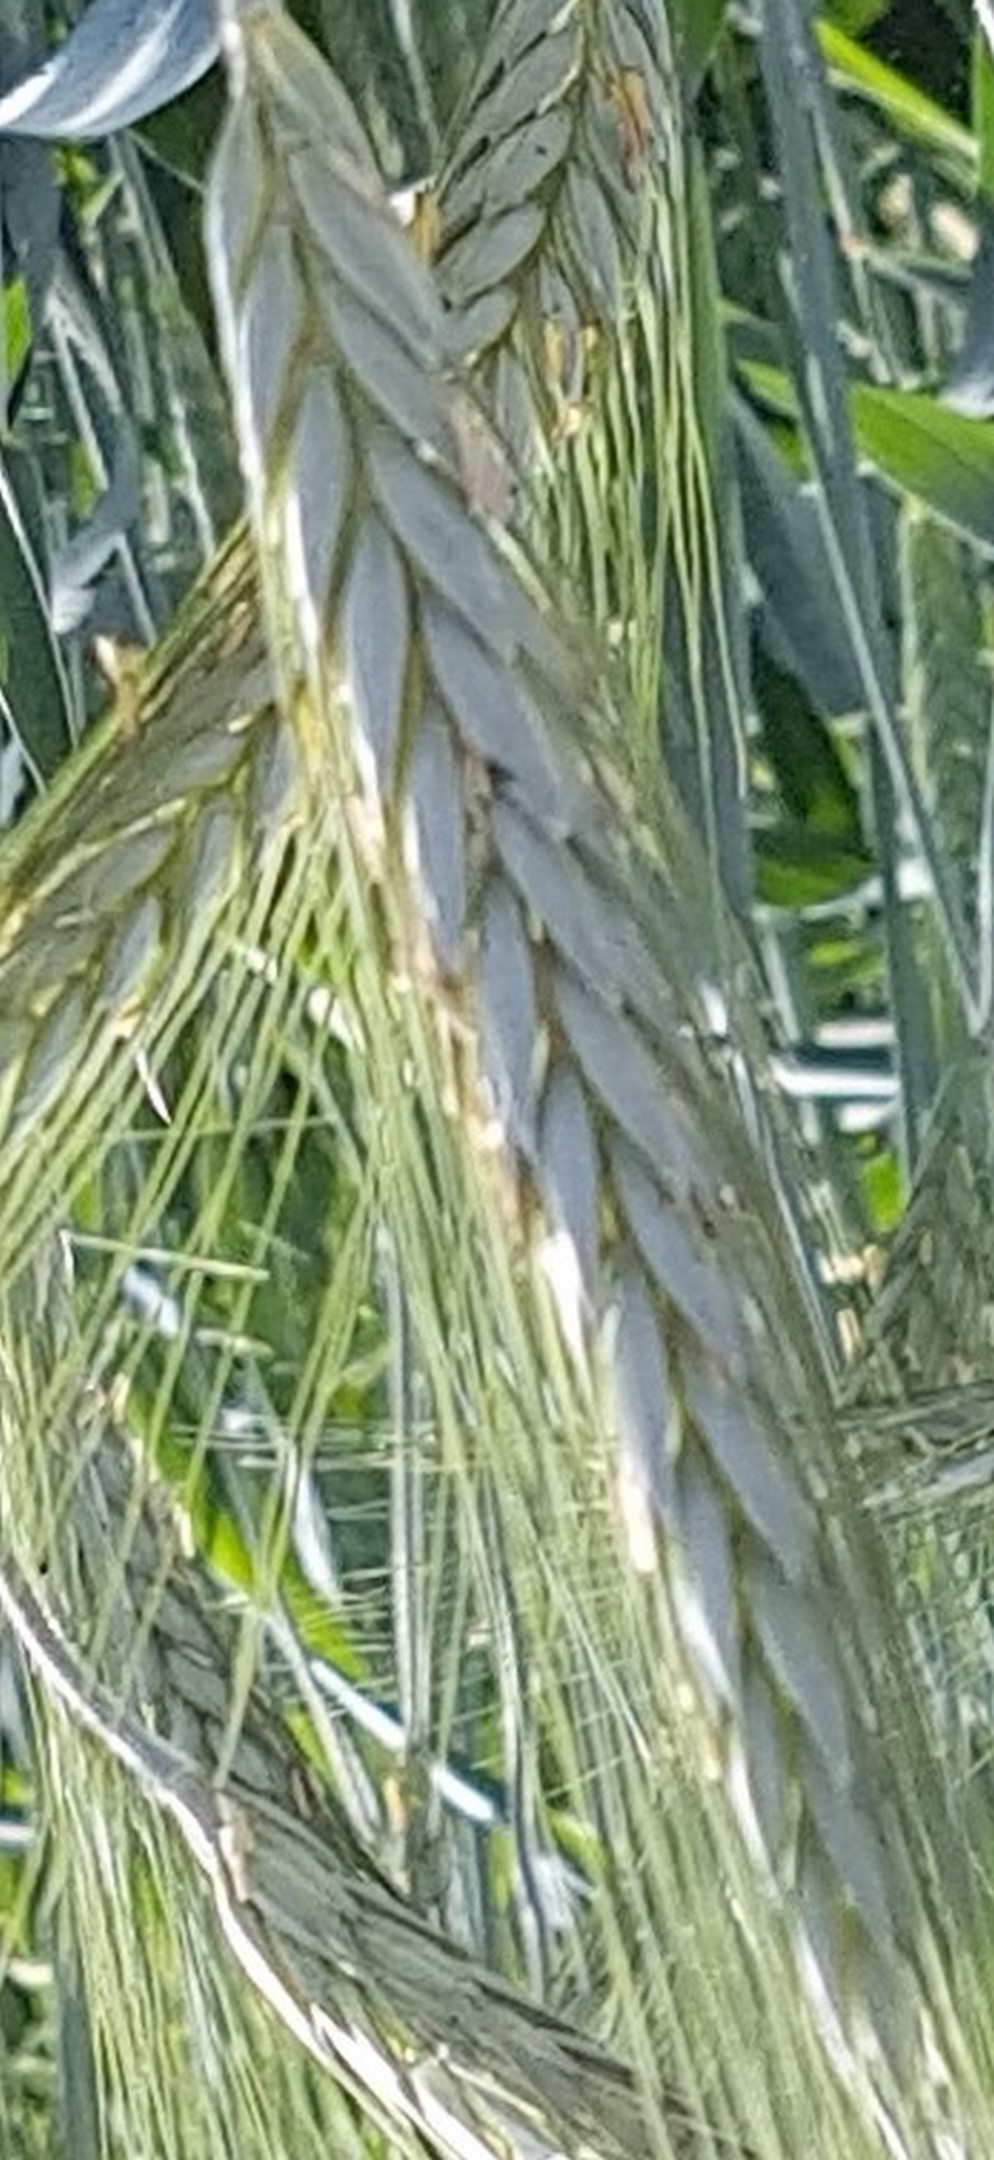Healthy Wheat: (184, 73, 994, 1827)
